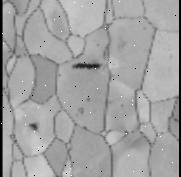good_void: (70, 61, 101, 72), (27, 119, 40, 132), (75, 107, 84, 115), (84, 97, 90, 102), (123, 129, 128, 134), (95, 42, 100, 47), (82, 125, 87, 130), (120, 103, 124, 108), (57, 73, 62, 77)
